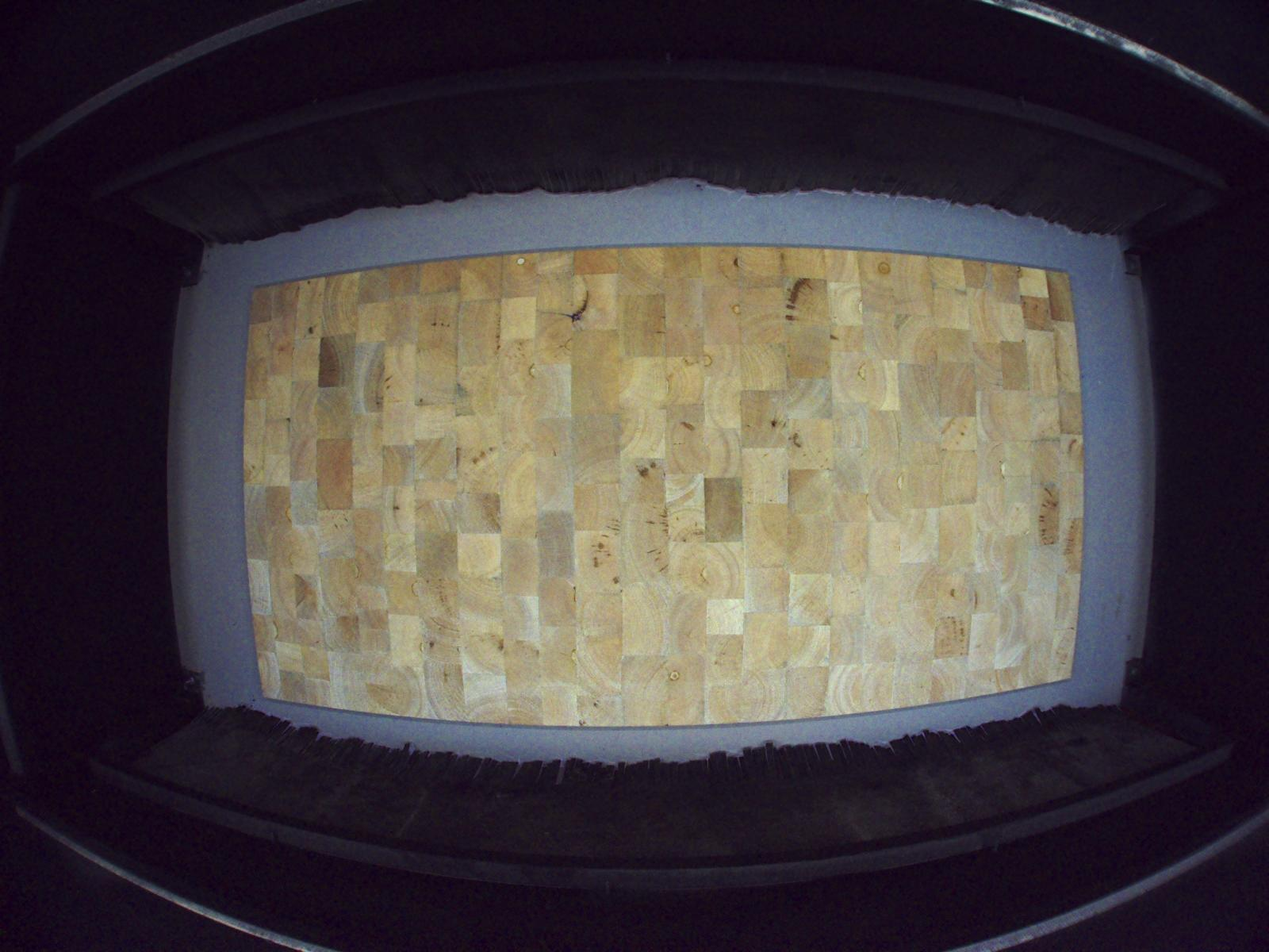nudillo: (571, 290, 592, 323)
